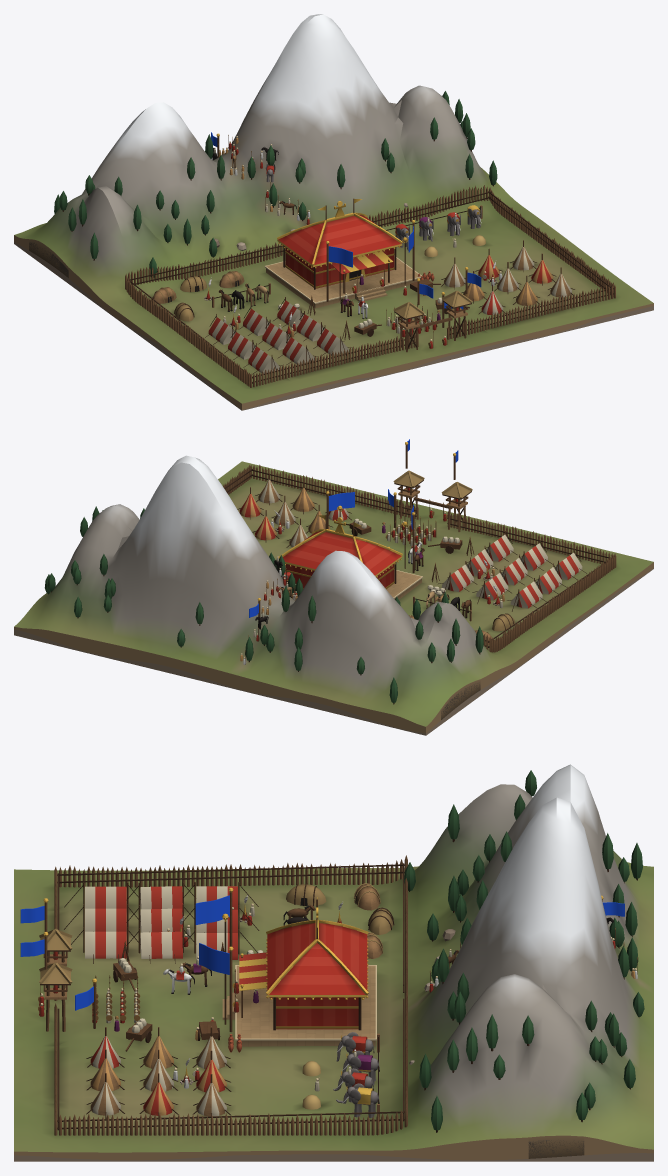
Rendered from lm_hannibalkamp.glb.
3 renders of one model, top to bottom at view 1: azimuth 30°, elevation 25°; view 2: azimuth 150°, elevation 25°; view 3: azimuth 270°, elevation 25°, orthographic. The views are drawn at different scales.
Visible parts, largest first — view 1: lm_hannibalkamp; view 2: lm_hannibalkamp; view 3: lm_hannibalkamp.
Boxes of the visible parts, x1,y1,x2,y2 form: lm_hannibalkamp: (14,14,653,410); lm_hannibalkamp: (14,439,653,735); lm_hannibalkamp: (14,764,653,1161).
Size of the model in its own units: 2.4 by 1.05 by 2.3.
Materials: 1 (1 with a texture image).
